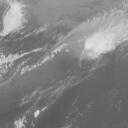cyclone: (45, 40, 98, 91)
